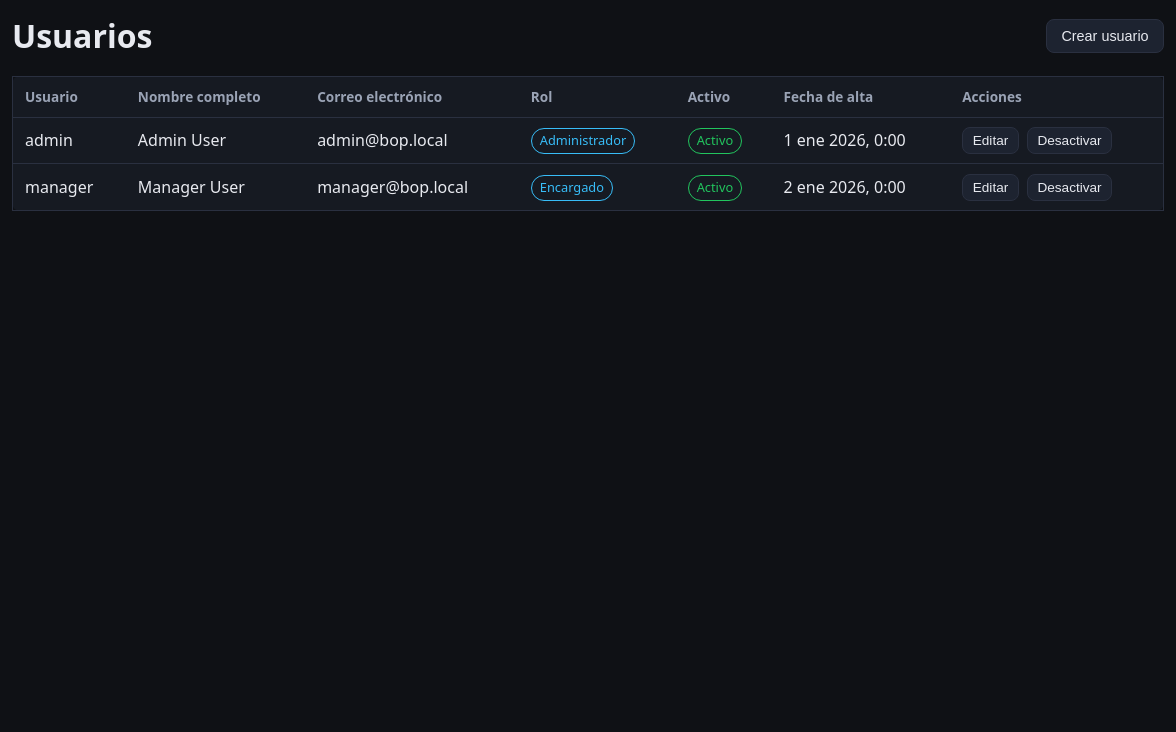
R-UI-USR-3: edit user › R-UI-USR-3: self-deactivation blocked client-side — warning, ZERO requests
Check: the table is shown, box 12,76 -> 1164,211
Check: the row that starts with "admin" is shown, box 12,117 -> 1164,164
Click the button "Desactivar" in the row of "Admin User" at (1070, 140), box 1027,127 -> 1112,154
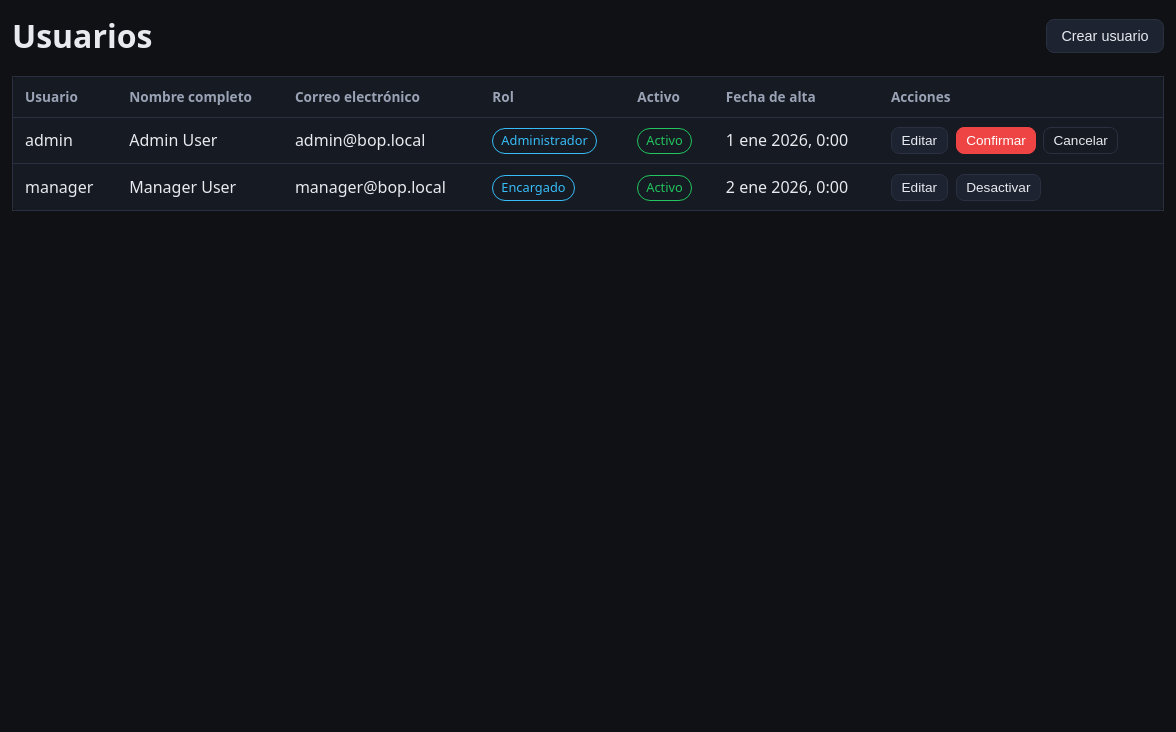
Click the button "Confirmar" at (996, 140), box 956,127 -> 1036,154
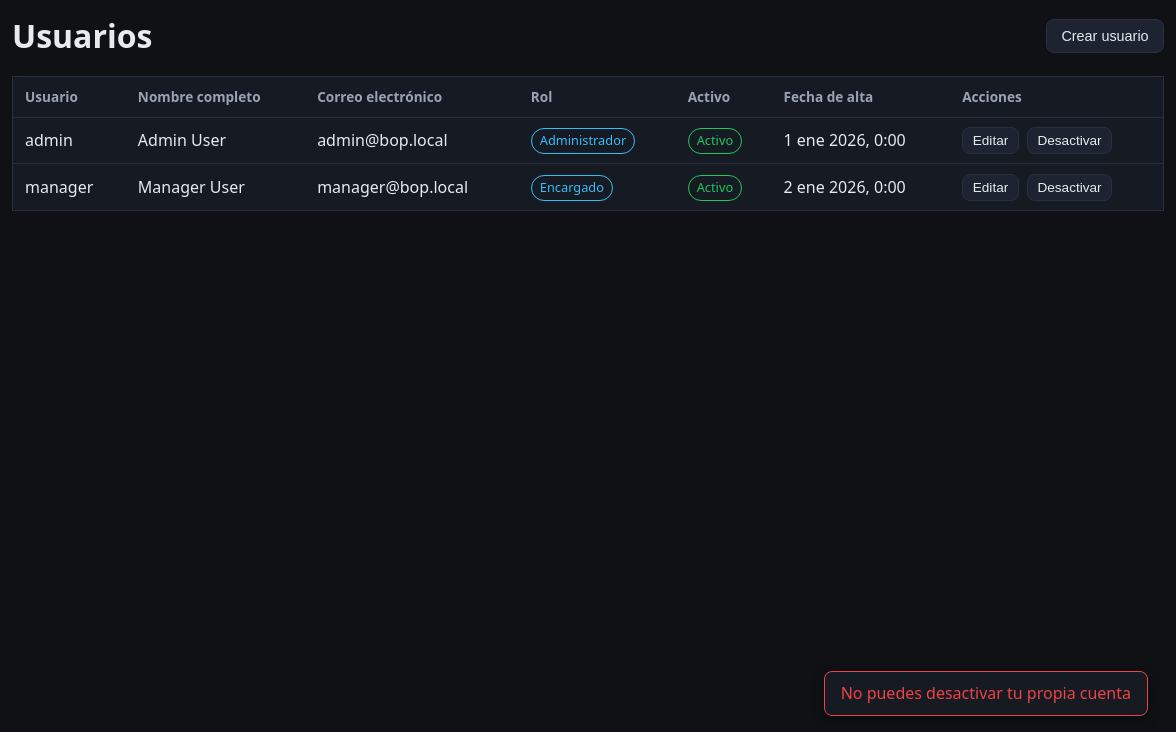
Check: the text "No puedes desactivar tu propia cuenta" is shown, box 824,671 -> 1148,716
